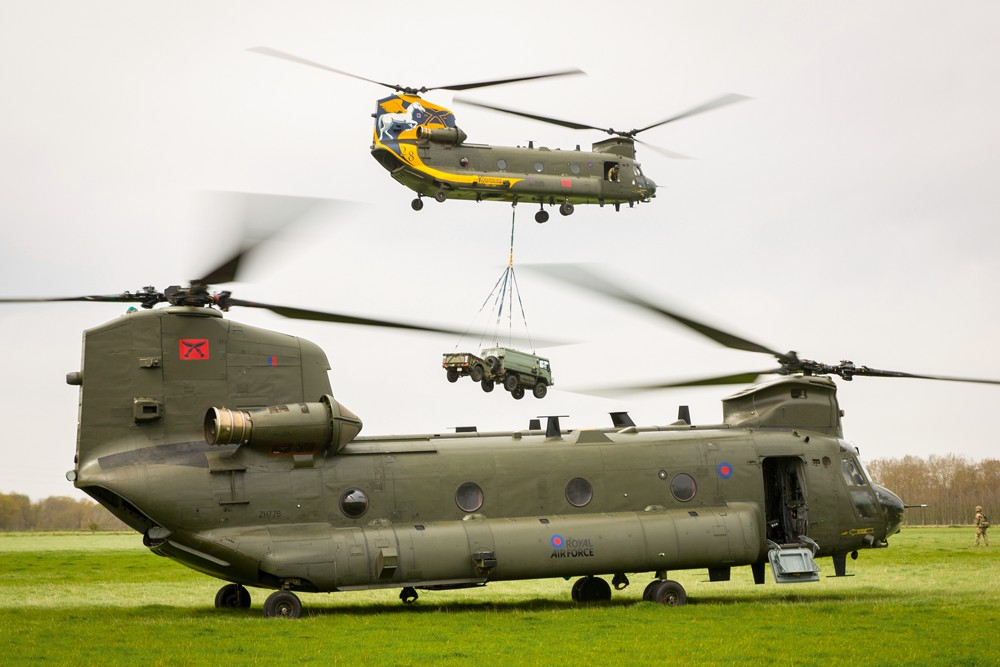chinook: (37, 262, 973, 620), (279, 49, 753, 222)
